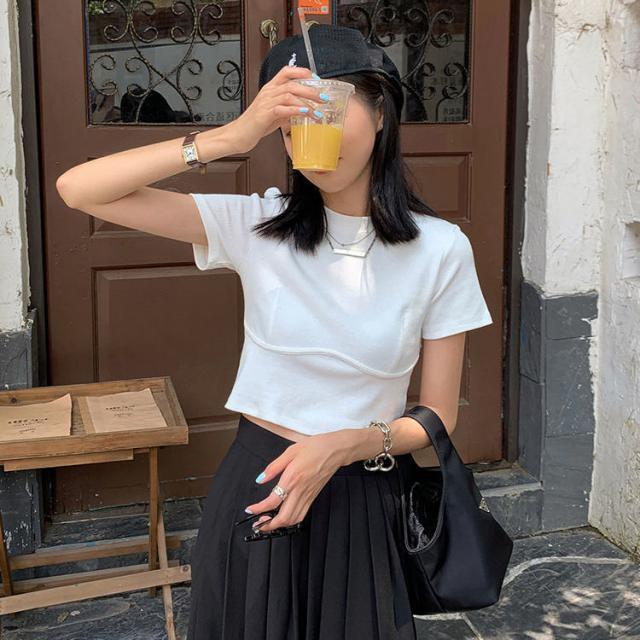Shirt: (182, 181, 500, 460)
